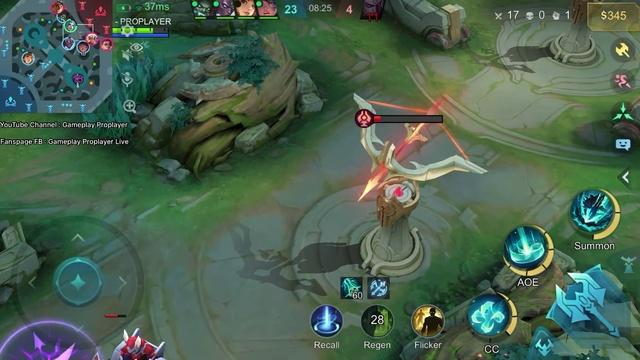Adc_Aliado: (62, 37, 75, 50), (101, 38, 113, 52)
Arbusto: (82, 41, 169, 122), (88, 125, 131, 136)
Esbirro_Enemigo: (109, 328, 165, 359)
Exp_Aliado: (57, 10, 69, 23)
HP_Heroe_Principal: (110, 28, 168, 33)
Hechizo_Batalla: (411, 304, 444, 337)
Jungla_Aliado: (21, 52, 35, 66)
Mana: (113, 33, 169, 38)
Mid_Aliado: (64, 20, 78, 31)
Mid_Enemigo: (86, 33, 98, 45)
Minimapa: (0, 0, 113, 112)
Roamer_Aliado: (77, 40, 90, 53)
Roamer_Enemigo: (50, 1, 64, 14)
Skill1: (466, 292, 517, 337)
Skill2: (504, 225, 554, 276)
Skill3: (569, 188, 620, 239)
Torre_Enemiga: (353, 94, 486, 275), (548, 0, 595, 63)
Vexana: (112, 41, 158, 104)
